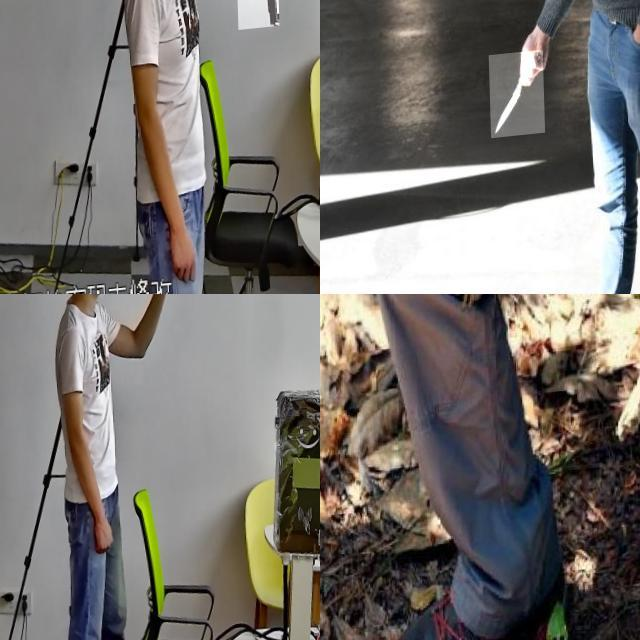-: (486, 294, 640, 369), (487, 58, 543, 144)
gun-knife-thesis - v11 Yolov5 augmented: (233, 0, 277, 53), (150, 294, 188, 337)
